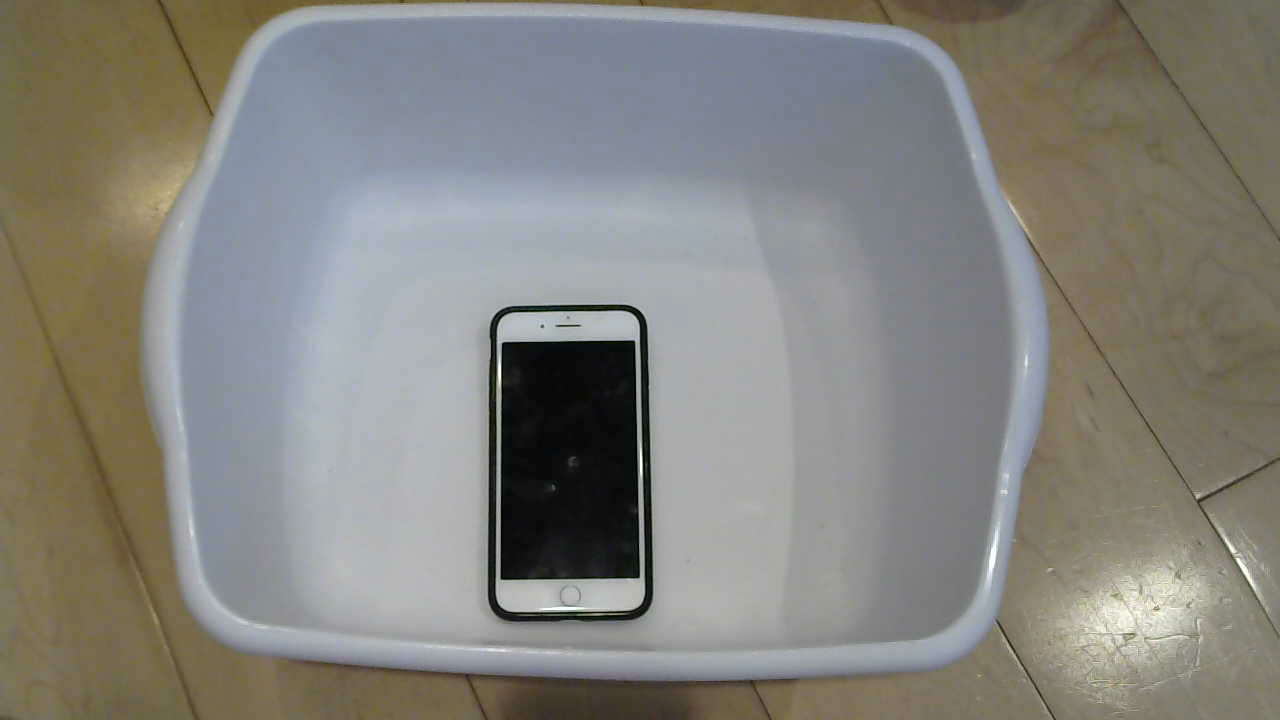phone: (490, 308, 675, 629)
